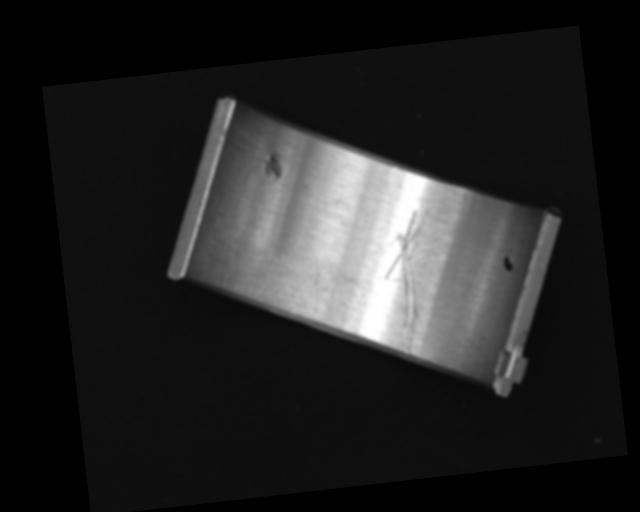blot: (501, 253, 515, 273)
bruise: (261, 149, 284, 182)
nick: (374, 209, 443, 358)
scratch: (217, 243, 342, 331)
